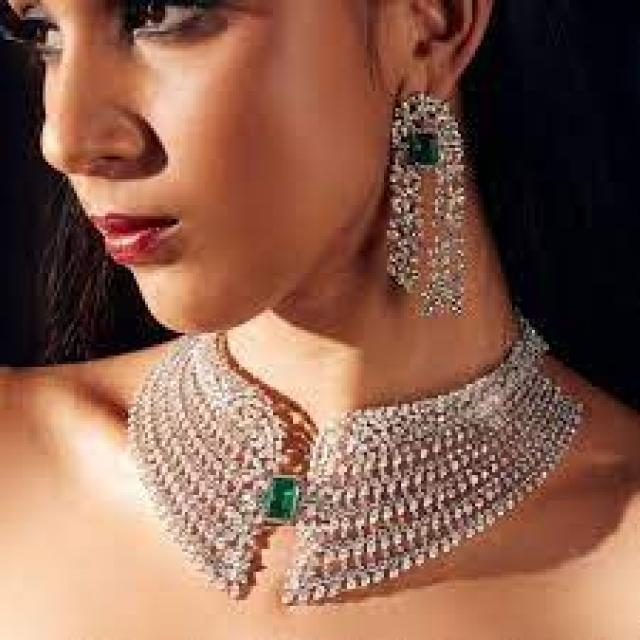Earring: (368, 79, 470, 326)
